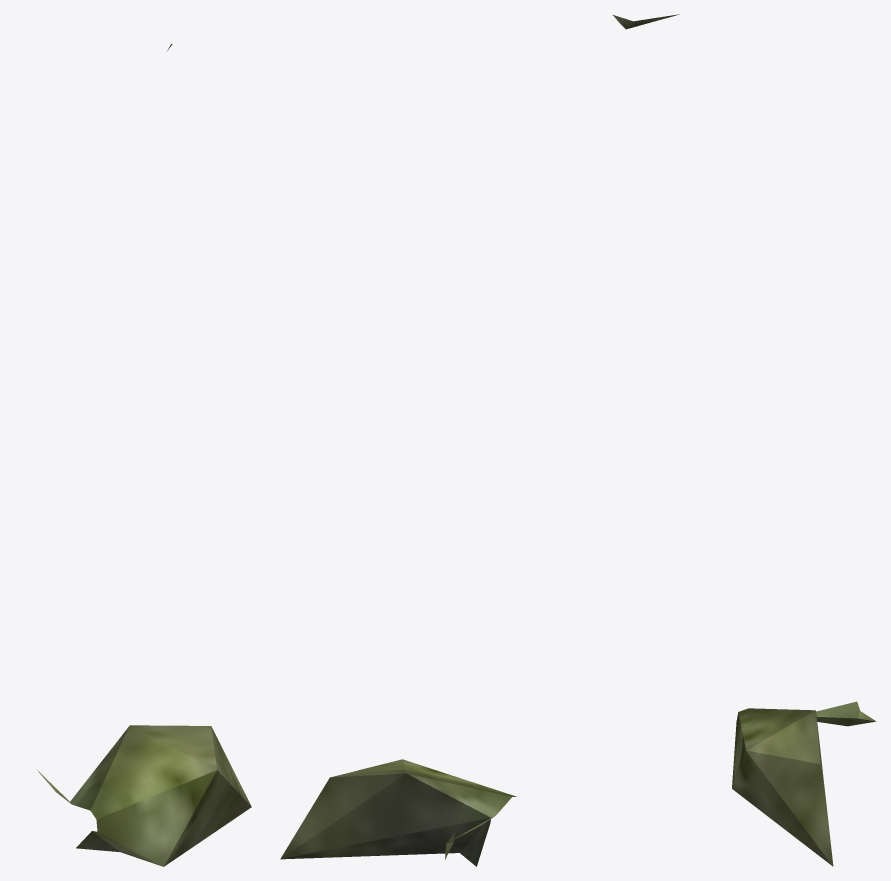
The picture shows the model from 3 angles, left to right: view 1: azimuth 30°, elevation 25°; view 2: azimuth 150°, elevation 25°; view 3: azimuth 270°, elevation 25°; orthographic projection. The views are drawn at different scales.
Bounding box in the file's own units: 0.8265 × 3.39 × 1.06.
1 material, 1 textured.
